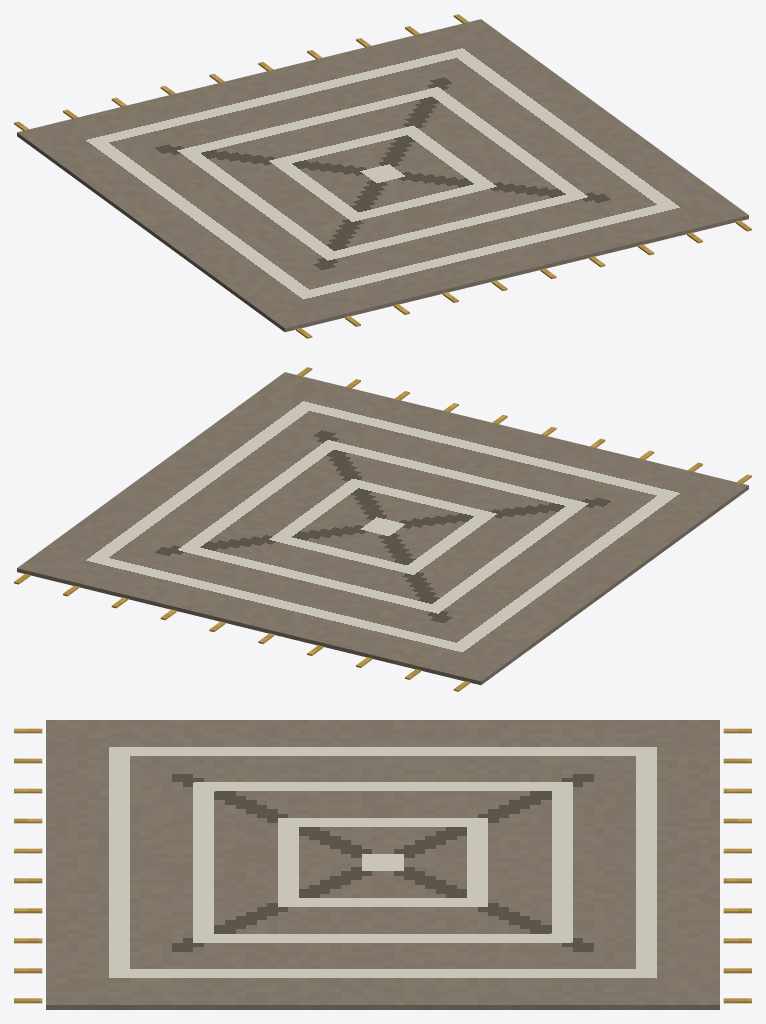
The model's file is rug.obj.
3 renders of one model, top to bottom at view 1: azimuth 30°, elevation 25°; view 2: azimuth 150°, elevation 25°; view 3: azimuth 270°, elevation 25°, orthographic. The views are drawn at different scales.
Parts seen in each view (by area): view 1: rug; view 2: rug; view 3: rug.
Part boxes in pixels (x1,y1,x2,y2): rug: [14, 14, 751, 338]; rug: [14, 367, 751, 691]; rug: [14, 720, 751, 1009].
Size of the model in its own units: 1.9 by 0.015 by 2.08.
